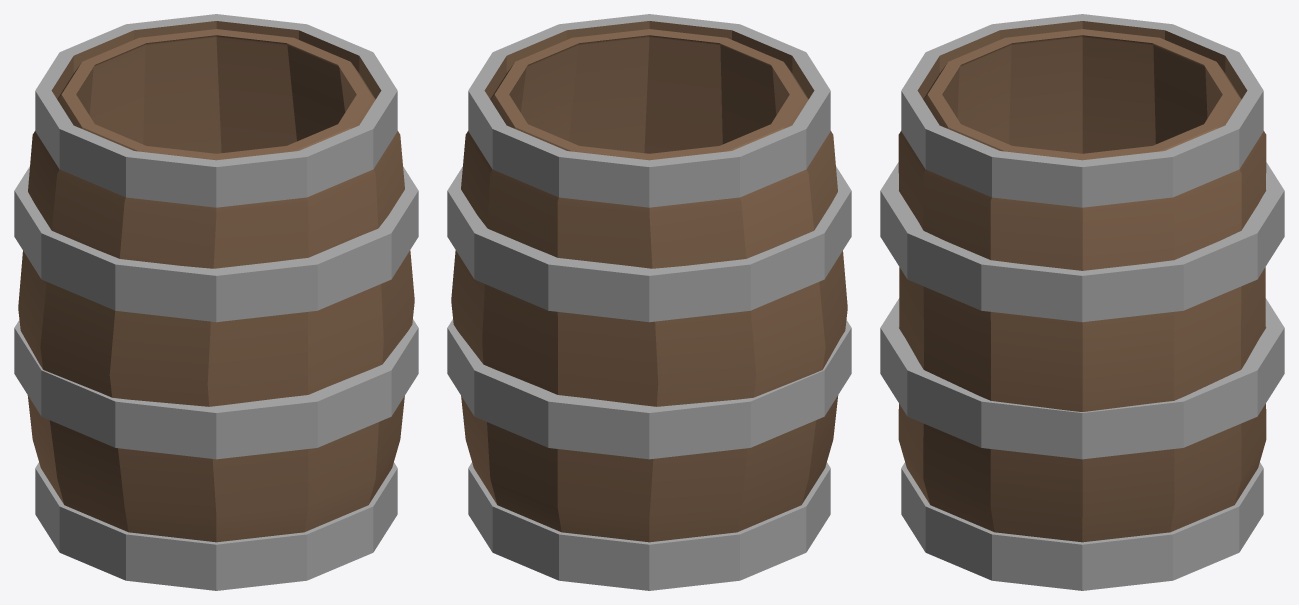
The model's file is barrel.fbx.
3 renders of one model, left to right at view 1: azimuth 30°, elevation 25°; view 2: azimuth 150°, elevation 25°; view 3: azimuth 270°, elevation 25°, orthographic.
Visible parts, largest first — view 1: polySurface2; view 2: polySurface2; view 3: polySurface2.
Boxes of the visible parts, <box> form: polySurface2: <box>14,14,418,590</box>; polySurface2: <box>447,14,851,590</box>; polySurface2: <box>880,14,1284,590</box>.
Bounding box in the file's own units: 0.0221 × 0.0254 × 0.022.
